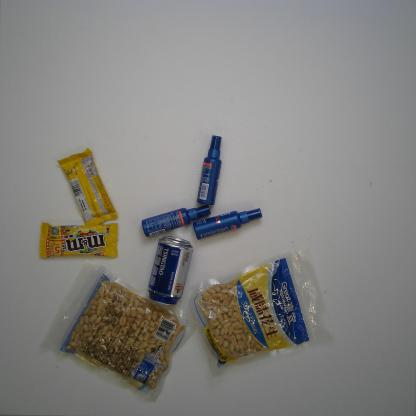Alcohol: (144, 235, 194, 309)
Chocolate: (56, 148, 118, 230), (37, 219, 120, 261)
Dried Fruit: (43, 261, 199, 406), (178, 243, 337, 381)
Personal Hygiene: (192, 205, 262, 243), (140, 203, 211, 237), (194, 133, 222, 207)
